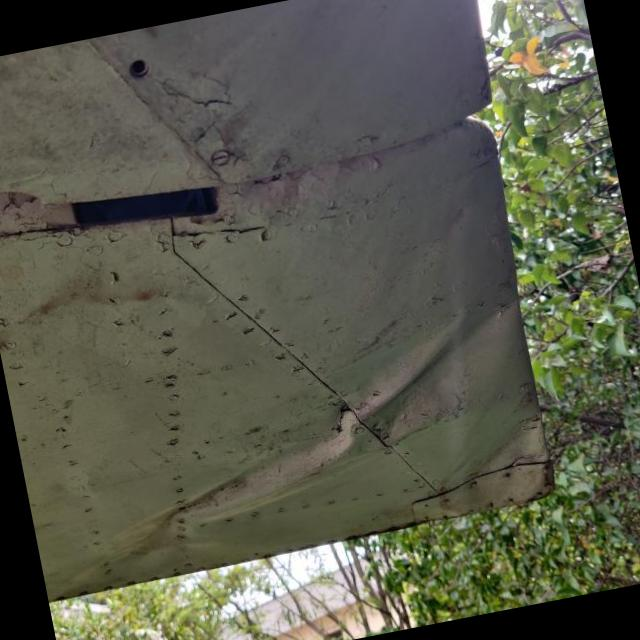Crack: (333, 407, 357, 435)
Dent: (51, 467, 294, 599), (301, 320, 483, 447)
